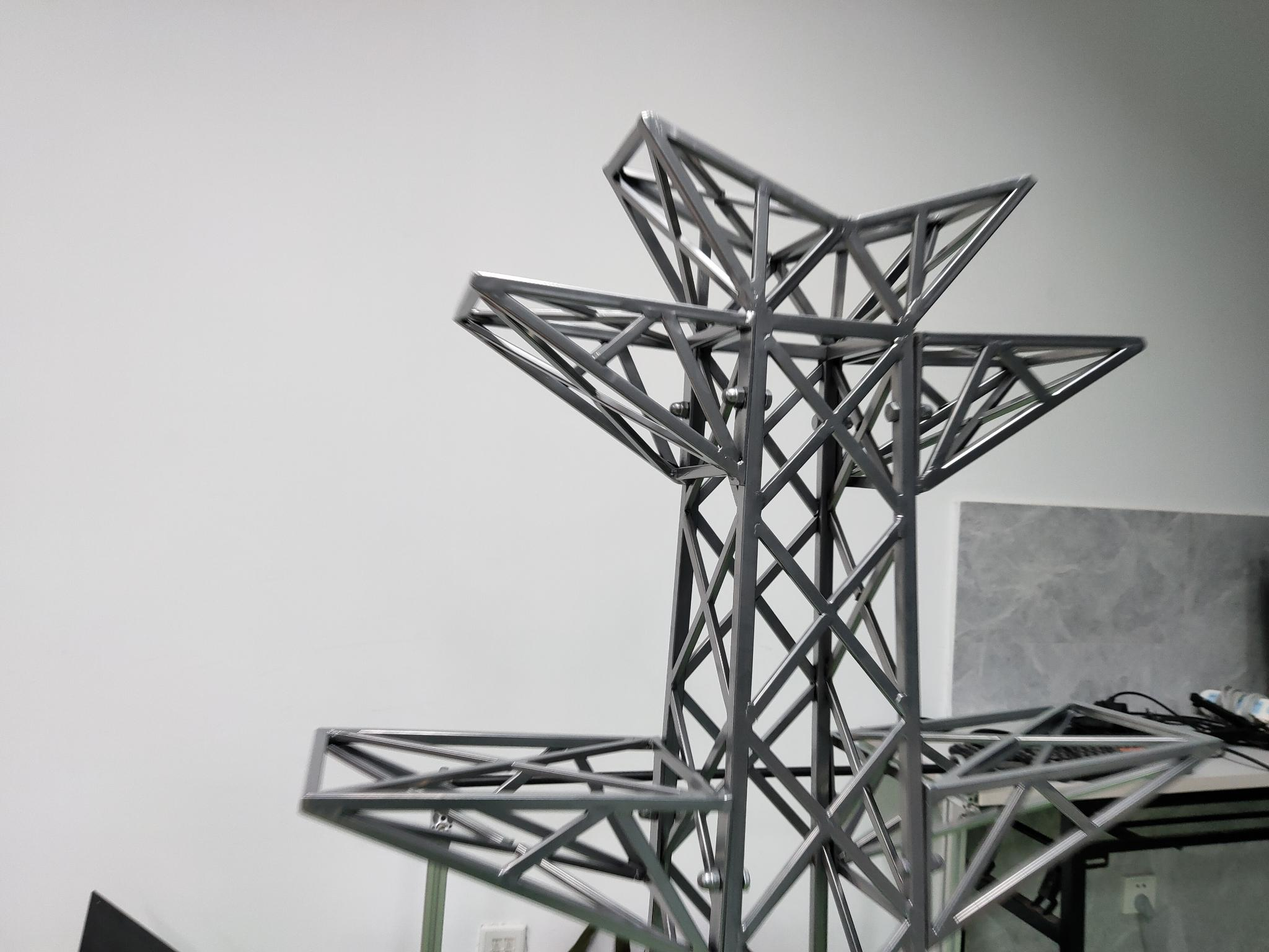tower: (324, 117, 1208, 952)
